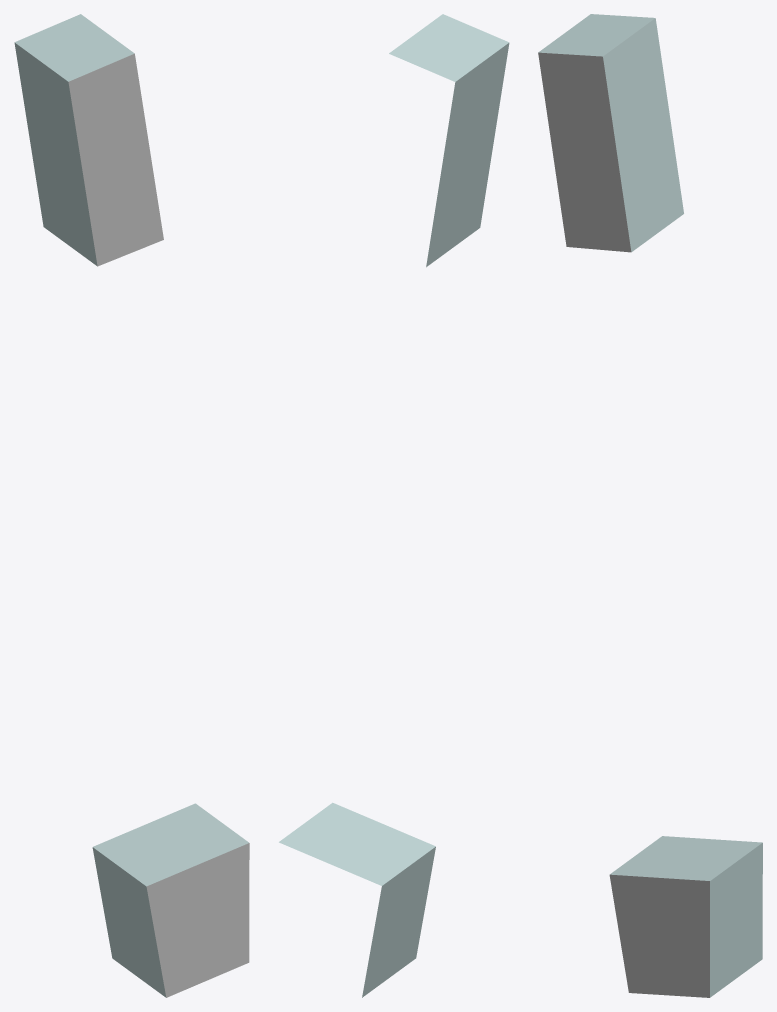
3 views of the same model, side by side, from view 1: azimuth 30°, elevation 25°; view 2: azimuth 150°, elevation 25°; view 3: azimuth 330°, elevation 25° (orthographic). The views are drawn at different scales.
Visible parts, largest first — view 1: 0_1_2_1_3_2_1_0_3; view 2: 0_1_2_1_3_2_1_0_3; view 3: 0_1_2_1_3_2_1_0_3.
Part boxes in pixels (x1=…): 0_1_2_1_3_2_1_0_3: x1=14, y1=14, x2=249, y2=997; 0_1_2_1_3_2_1_0_3: x1=279, y1=14, x2=509, y2=997; 0_1_2_1_3_2_1_0_3: x1=538, y1=14, x2=762, y2=997.
Size of the model in its own units: 5.73 by 29.1 by 3.14.
